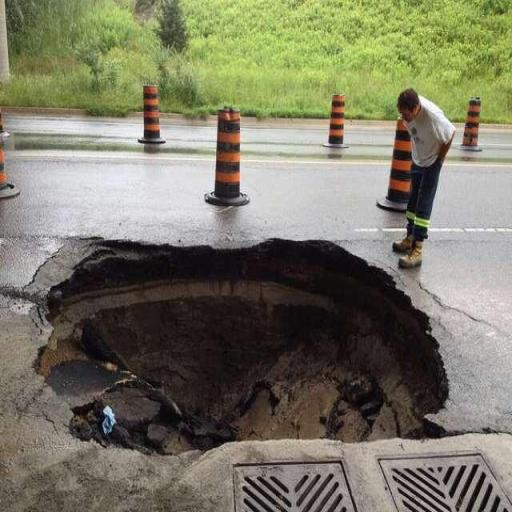Concentric_Crack: (25, 239, 449, 454)
